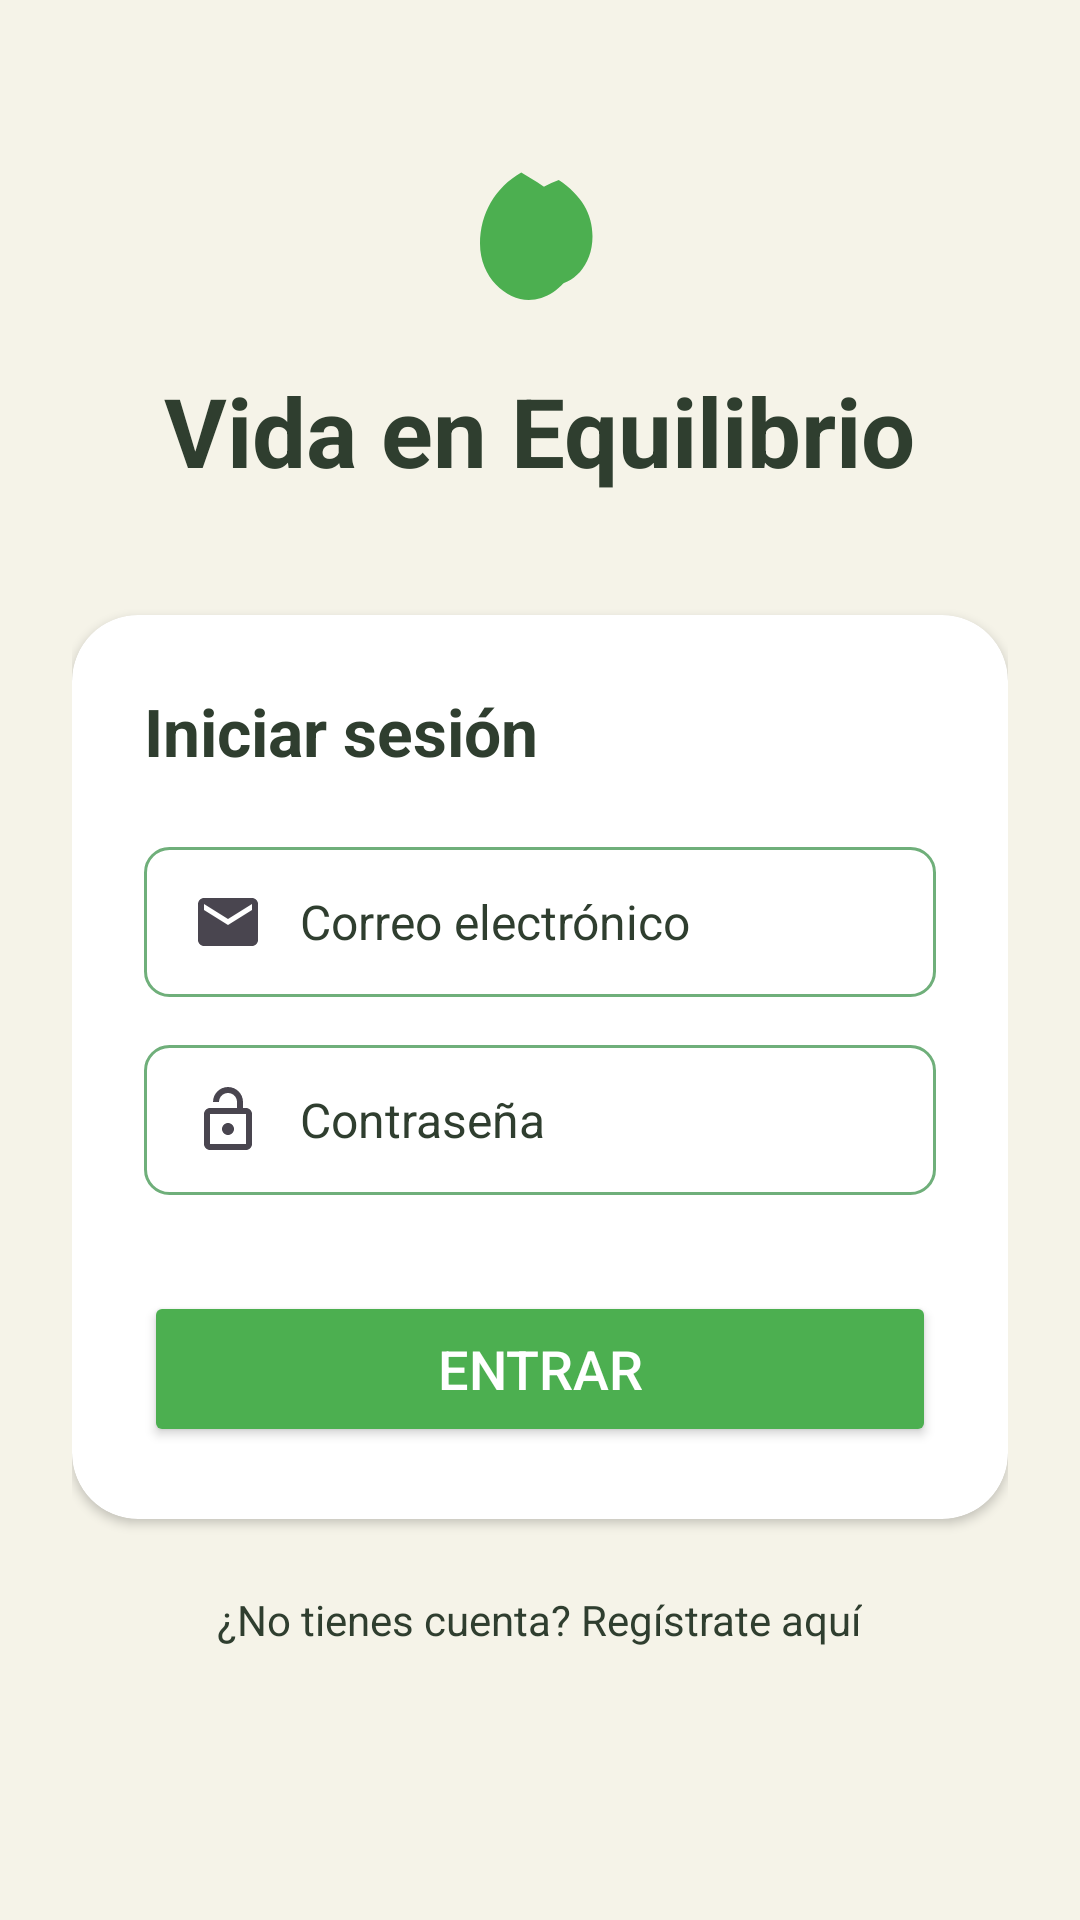

Named icons in this screenshot (1080w x 1920h) and their centers, [x,y]:
leaf: [536,236]
